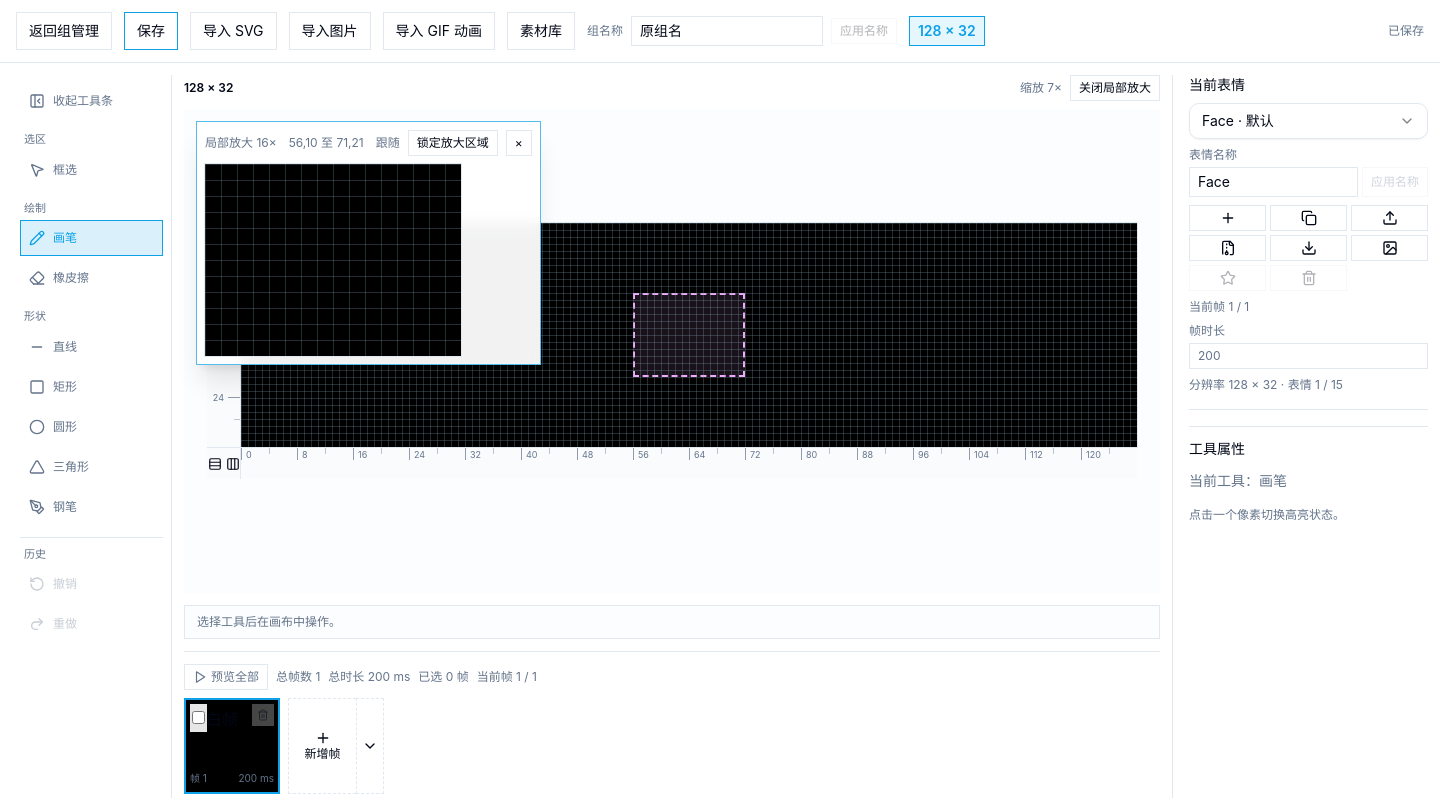
blocks a mismatched face profile before opening import confirmation
Step 1. Click the button named "导入单个表情" → (1390, 218), box left=1351, top=205, right=1428, bottom=231
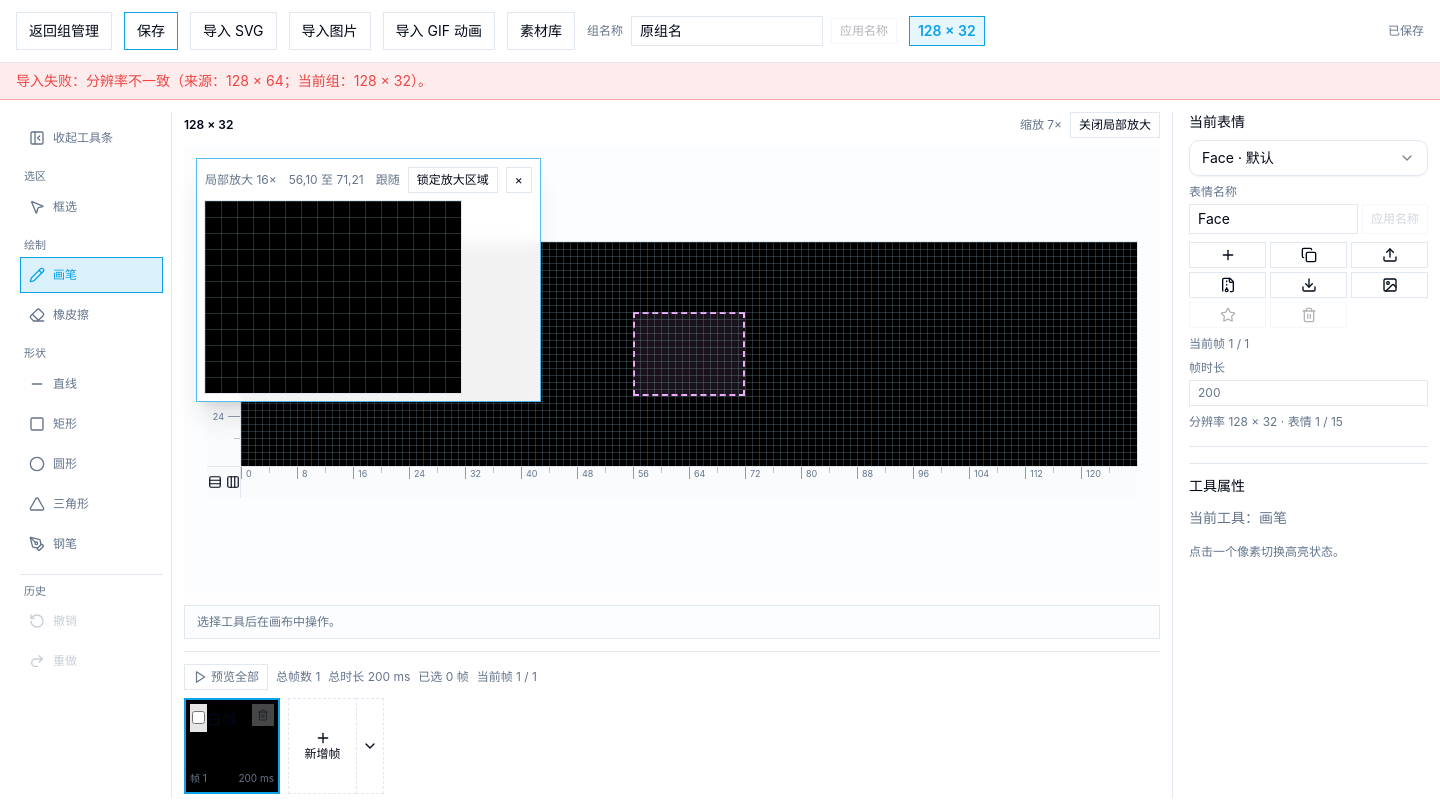
Expected: the message "导入失败：分辨率不一致（来源：128 × 64；当前组：128 × 32）。" does not show "不会缩放、裁切或转换", left=0, top=63, right=1439, bottom=100
Now the message "导入失败：分辨率不一致（来源：128 × 64；当前组：128 × 32）。" is shown, box left=0, top=63, right=1439, bottom=100
